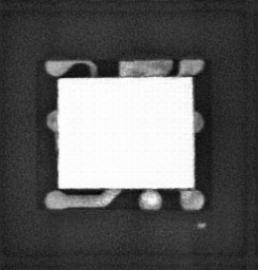DIE_INK: (194, 219, 207, 230)
